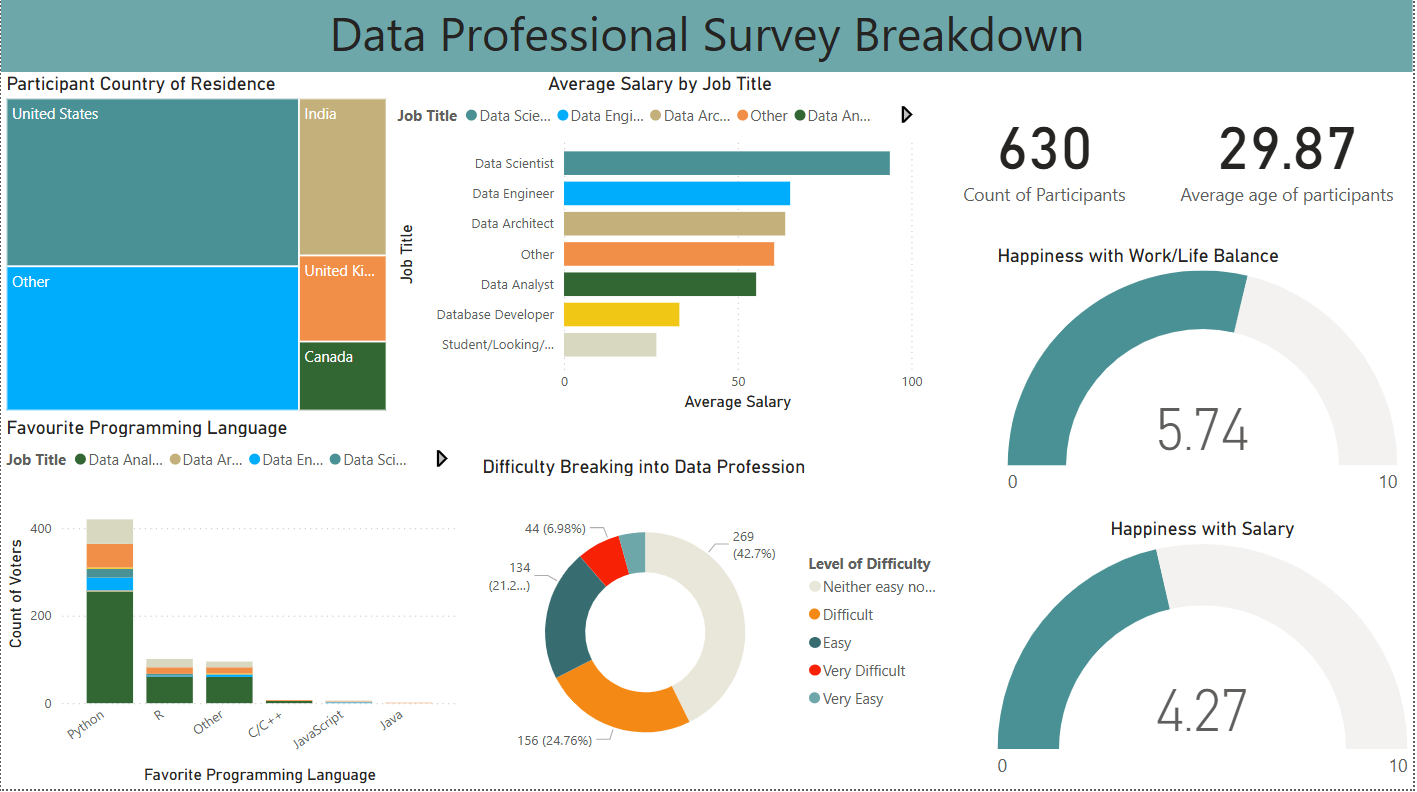

Layout of this report page (visuals, bound fields, positions):
{"tool":"powerbi","page":{"name":"Page 1","canvas":[1280,720],"ordinal":0},"visuals":[{"type":"textbox","box":[0,0,1280,70],"z":0},{"type":"card","fields":{"Values":["CountNonNull(Data Professional Survey (2).Unique ID)"]},"box":[840.6,69.8,211.3,145.1],"z":1000},{"type":"card","fields":{"Values":["Avg(Data Professional Survey (2).Q10 - Current Age)"]},"box":[1051.9,69.8,228.5,145.1],"z":2000},{"type":"barChart","title":"Average Salary by Job Title","fields":{"Category":["Data Professional Survey (2).Q1 - Which Title Best Fits your Current Role?.1"],"Y":["Avg(Data Professional Survey (2).Average Salary)"],"Series":["Data Professional Survey (2).Q1 - Which Title Best Fits your Current Role?.1"]},"box":[354.6,69.8,486,311.9],"z":3000},{"type":"columnChart","title":"Favourite Programming Language ","fields":{"Category":["Data Professional Survey (2).Q5 - Favorite Programming Language.1"],"Y":["CountNonNull(Data Professional Survey (2).Unique ID)"],"Series":["Data Professional Survey (2).Q1 - Which Title Best Fits your Current Role?.1"]},"box":[0,381.7,418.7,338.7],"z":4000},{"type":"treemap","title":"Participant Country of Residence","fields":{"Group":["Data Professional Survey (2).Q11 - Which Country do you live in?.1"],"Values":["CountNonNull(Data Professional Survey (2).Q11 - Which Country do you live in?.1)"]},"box":[0,69.8,354.6,311.9],"z":5000},{"type":"gauge","title":"Happiness with Salary","fields":{"Y":["Avg(Data Professional Survey (2).Q6 - How Happy are you in your Current Position with the following? (Salary))"],"MinValue":["Min(Data Professional Survey (2).Q6 - How Happy are you in your Current Position with the following? (Salary))"],"MaxValue":["Max(Data Professional Survey (2).Q6 - How Happy are you in your Current Position with the following? (Salary))"]},"box":[898.6,473.4,381.8,246.6],"z":6000},{"type":"gauge","title":"Happiness with Work/Life Balance","fields":{"Y":["Avg(Data Professional Survey (2).Q6 - How Happy are you in your Current Position with the following? (Work/Life Balance)"],"MinValue":["Min(Data Professional Survey (2).Q6 - How Happy are you in your Current Position with the following? (Work/Life Balance)"],"MaxValue":["Max(Data Professional Survey (2).Q6 - How Happy are you in your Current Position with the following? (Work/Life Balance)"]},"box":[898.6,225.8,381.8,236.7],"z":7000},{"type":"donutChart","title":"Difficulty Breaking into Data Profession","fields":{"Category":["Data Professional Survey (2).Q7 - How difficult was it for you to break into Data?"],"Y":["CountNonNull(Data Professional Survey (2).Q7 - How difficult was it for you to break into Data?)"],"Series":["Data Professional Survey (2).Q7 - How difficult was it for you to break into Data?"]},"box":[431.6,417.1,433.5,302.9],"z":8000}]}

Visuals, with their boxes in screenshot pixels (x1, y1, x2, y2), scaled from the page's 1280x720 canvas onto the 1417x792 screenshot:
textbox: (x1=0, y1=0, x2=1416, y2=77)
card - CountNonNull(Data Professional Survey (2).Unique ID): (x1=931, y1=77, x2=1164, y2=236)
card - Avg(Data Professional Survey (2).Q10 - Current Age): (x1=1164, y1=77, x2=1416, y2=236)
"Average Salary by Job Title" barChart: (x1=393, y1=77, x2=931, y2=420)
"Favourite Programming Language " columnChart: (x1=0, y1=420, x2=464, y2=791)
"Participant Country of Residence" treemap: (x1=0, y1=77, x2=393, y2=420)
"Happiness with Salary" gauge: (x1=995, y1=521, x2=1416, y2=791)
"Happiness with Work/Life Balance" gauge: (x1=995, y1=248, x2=1416, y2=509)
"Difficulty Breaking into Data Profession" donutChart: (x1=478, y1=459, x2=958, y2=791)
